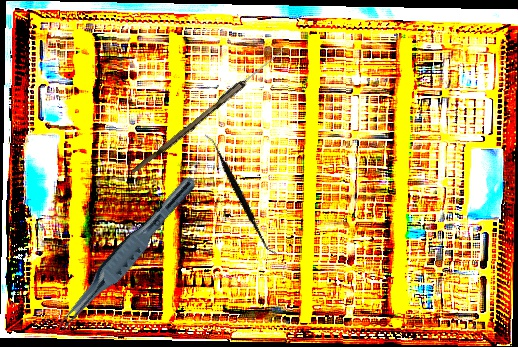Spatula Surgical: (170, 134, 312, 255)
Surgical Spoon: (130, 45, 287, 178)
Tissue Forceps: (51, 166, 200, 341)
